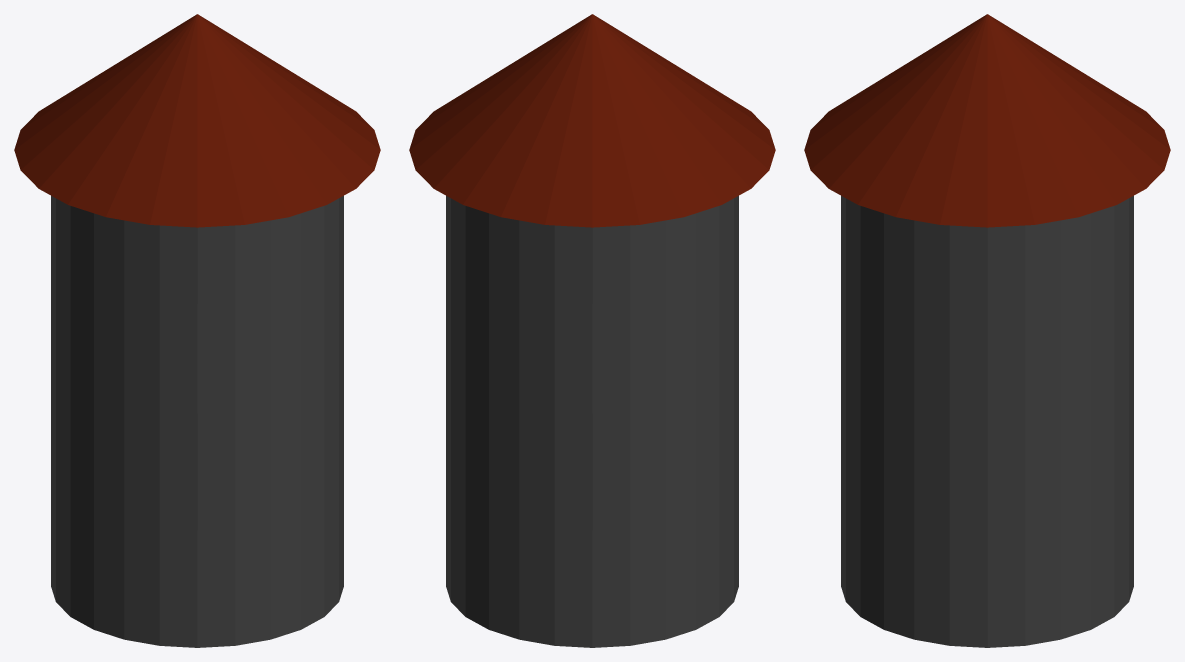
File: Castle.glb
The picture shows the model from 3 angles, left to right: view 1: azimuth 30°, elevation 25°; view 2: azimuth 150°, elevation 25°; view 3: azimuth 270°, elevation 25°; orthographic projection.
Parts seen in each view (by area): view 1: castle; view 2: castle; view 3: castle.
Part boxes in pixels (x1=…): castle: x1=14, y1=14, x2=380, y2=647; castle: x1=409, y1=14, x2=775, y2=647; castle: x1=804, y1=14, x2=1170, y2=647.
Bounding box in the file's own units: 48.69 × 83.98 × 48.69.
